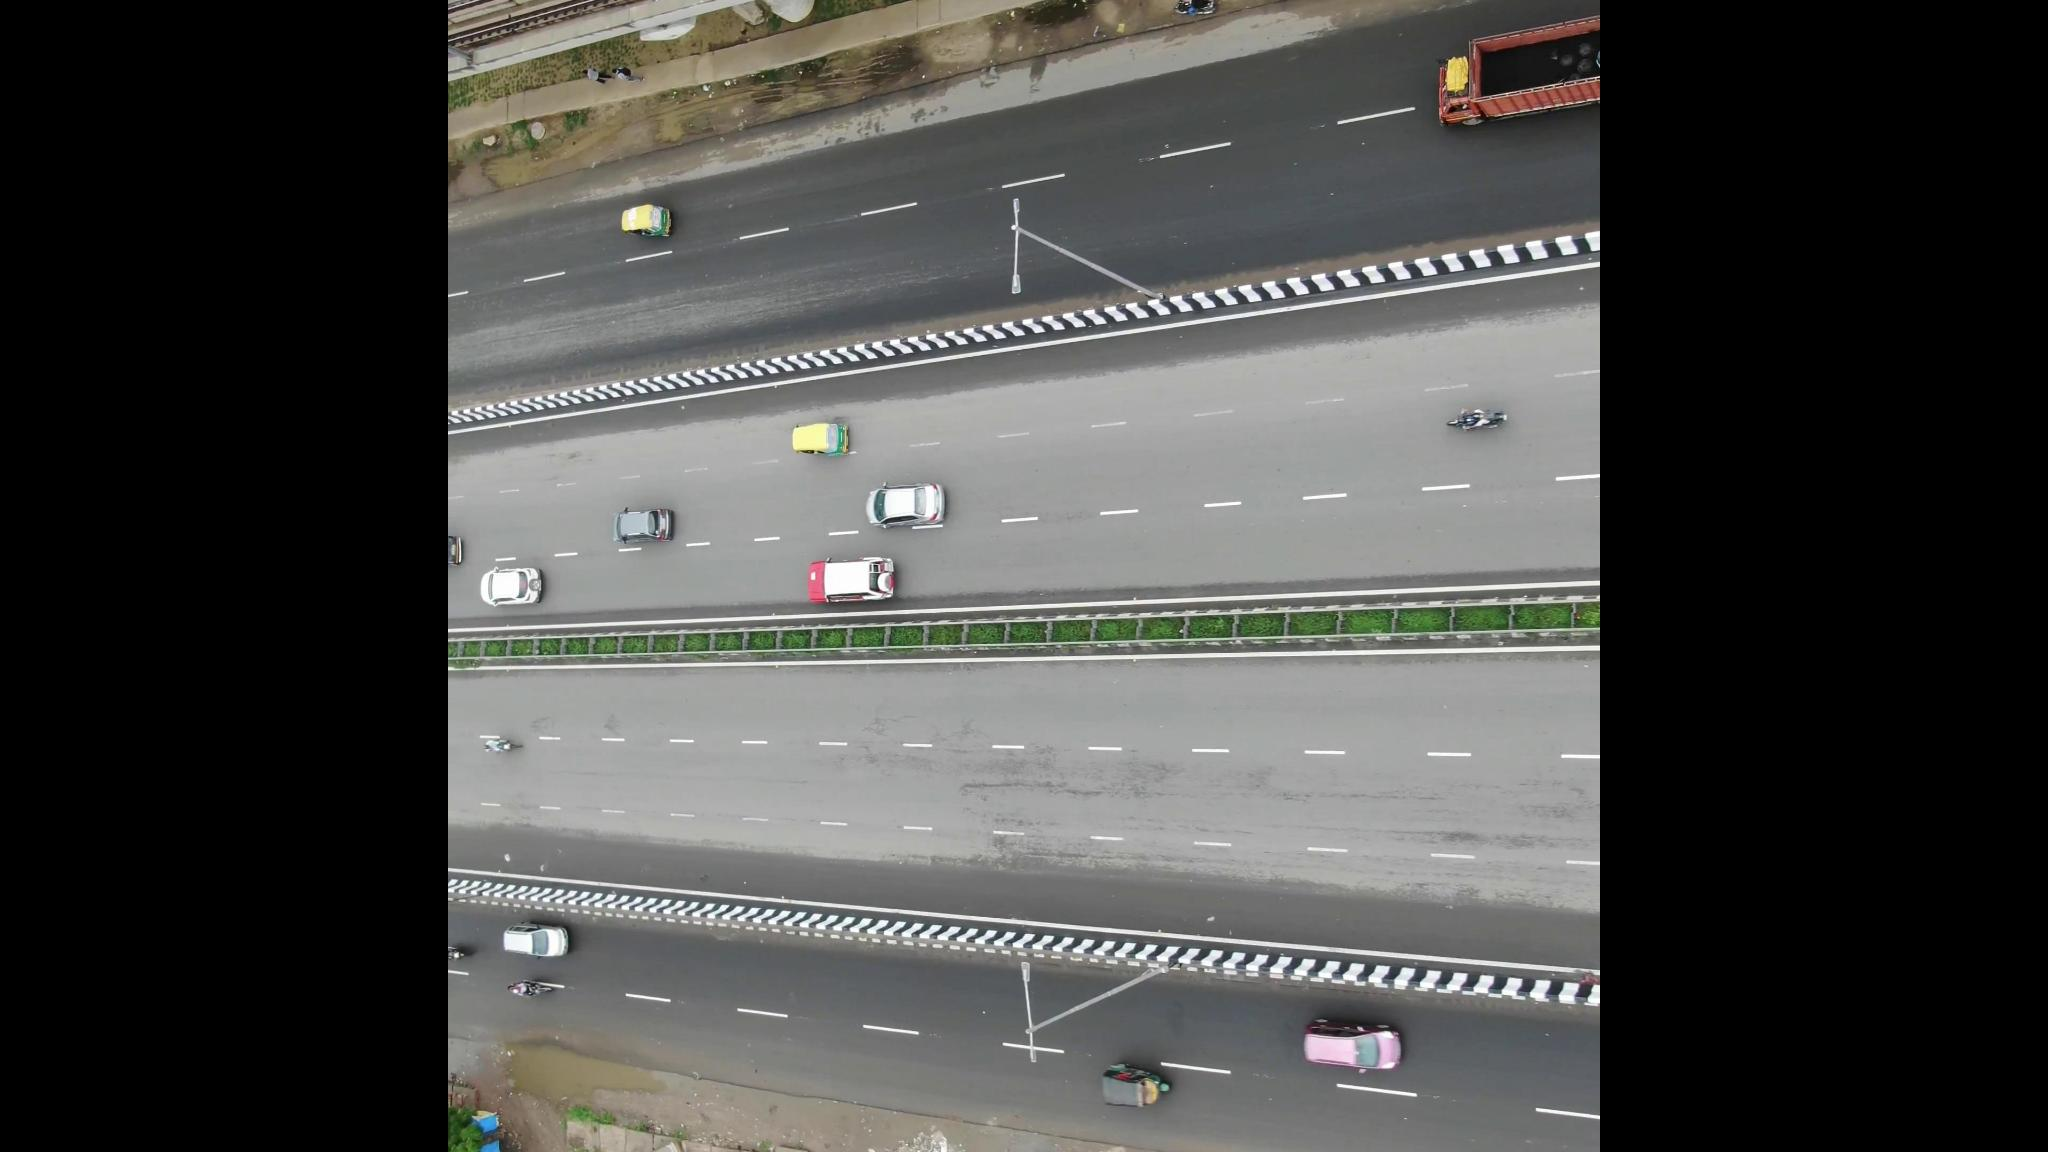Ravelling: (859, 724, 1175, 819)
